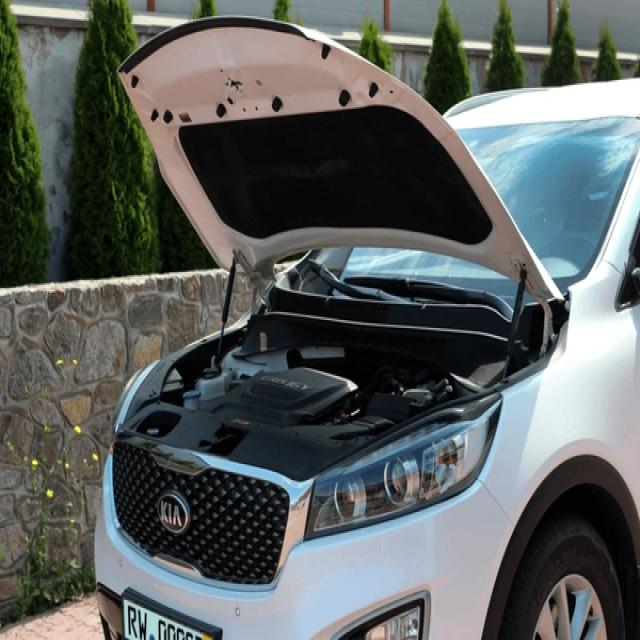kia: (156, 494, 190, 532)
